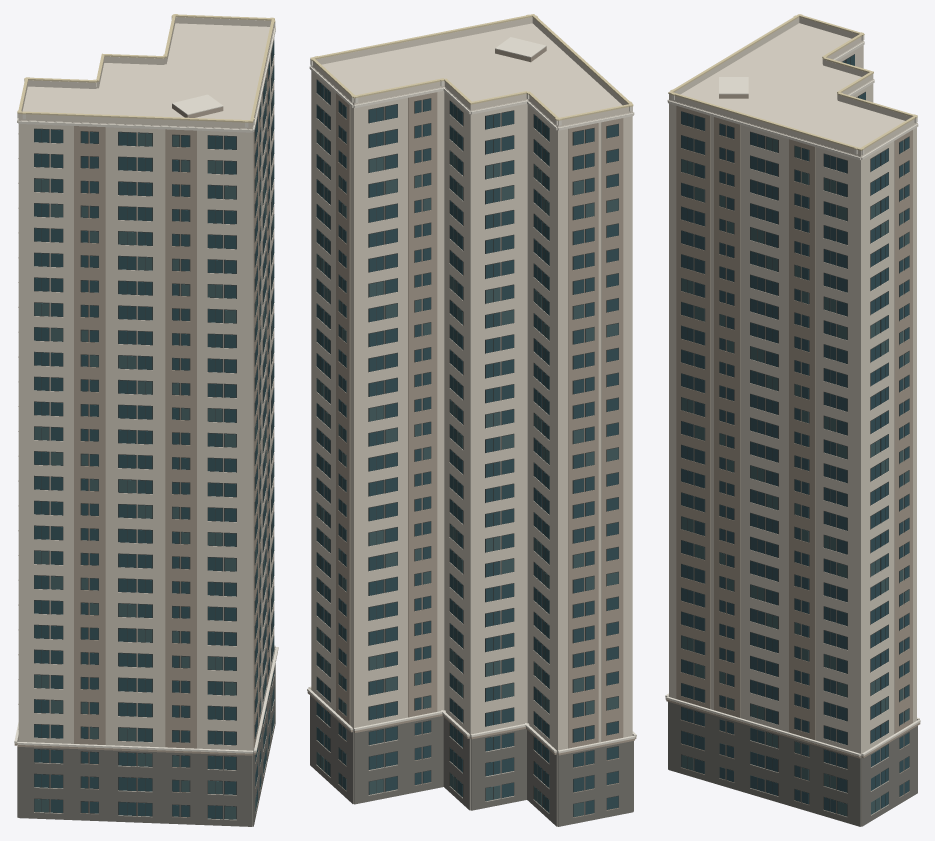
The model's file is bespoke-raemian-prestige-101.glb.
3 views of the same model, side by side, from view 1: azimuth 30°, elevation 25°; view 2: azimuth 150°, elevation 25°; view 3: azimuth 270°, elevation 25° (orthographic). The views are drawn at different scales.
Parts seen in each view (by area): view 1: Prestige_warm_ivory_rendered_wall006, Prestige_recessed_blue_green_window006, Prestige_wide_taupe_pilasters006, Prestige_dark_bronze_thin_window_frame006, Prestige_dark_brown_grey_stone_base006, Prestige_muted_green_window_pair006, Prestige_pale_limestone_band006, Prestige_cream_gold_crown_coping006; view 2: Prestige_warm_ivory_rendered_wall006, Prestige_recessed_blue_green_window006, Prestige_wide_taupe_pilasters006, Prestige_dark_bronze_thin_window_frame006, Prestige_dark_brown_grey_stone_base006, Prestige_muted_green_window_pair006, Prestige_pale_limestone_band006, Prestige_cream_gold_crown_coping006; view 3: Prestige_warm_ivory_rendered_wall006, Prestige_wide_taupe_pilasters006, Prestige_recessed_blue_green_window006, Prestige_dark_bronze_thin_window_frame006, Prestige_dark_brown_grey_stone_base006, Prestige_muted_green_window_pair006, Prestige_pale_limestone_band006, Prestige_cream_gold_crown_coping006.
Boxes of the visible parts, bbox=[...] form: Prestige_warm_ivory_rendered_wall006: bbox=[18, 17, 274, 825]; Prestige_recessed_blue_green_window006: bbox=[34, 41, 274, 818]; Prestige_wide_taupe_pilasters006: bbox=[14, 59, 276, 817]; Prestige_dark_bronze_thin_window_frame006: bbox=[34, 40, 274, 819]; Prestige_dark_brown_grey_stone_base006: bbox=[17, 649, 275, 826]; Prestige_muted_green_window_pair006: bbox=[34, 67, 274, 819]; Prestige_pale_limestone_band006: bbox=[14, 17, 278, 753]; Prestige_cream_gold_crown_coping006: bbox=[17, 14, 275, 122]; Prestige_warm_ivory_rendered_wall006: bbox=[311, 17, 632, 826]; Prestige_recessed_blue_green_window006: bbox=[316, 80, 618, 814]; Prestige_wide_taupe_pilasters006: bbox=[307, 46, 636, 817]; Prestige_dark_bronze_thin_window_frame006: bbox=[316, 79, 618, 817]; Prestige_dark_brown_grey_stone_base006: bbox=[310, 695, 633, 826]; Prestige_muted_green_window_pair006: bbox=[316, 130, 618, 817]; Prestige_pale_limestone_band006: bbox=[307, 37, 636, 753]; Prestige_cream_gold_crown_coping006: bbox=[310, 14, 633, 120]; Prestige_warm_ivory_rendered_wall006: bbox=[669, 17, 916, 826]; Prestige_wide_taupe_pilasters006: bbox=[665, 94, 920, 805]; Prestige_recessed_blue_green_window006: bbox=[681, 55, 909, 812]; Prestige_dark_bronze_thin_window_frame006: bbox=[681, 54, 909, 816]; Prestige_dark_brown_grey_stone_base006: bbox=[668, 701, 917, 826]; Prestige_muted_green_window_pair006: bbox=[681, 137, 909, 816]; Prestige_pale_limestone_band006: bbox=[665, 35, 920, 756]; Prestige_cream_gold_crown_coping006: bbox=[668, 14, 917, 150].
Bounding box in the file's own units: 34.7 × 79.3 × 27.11.
